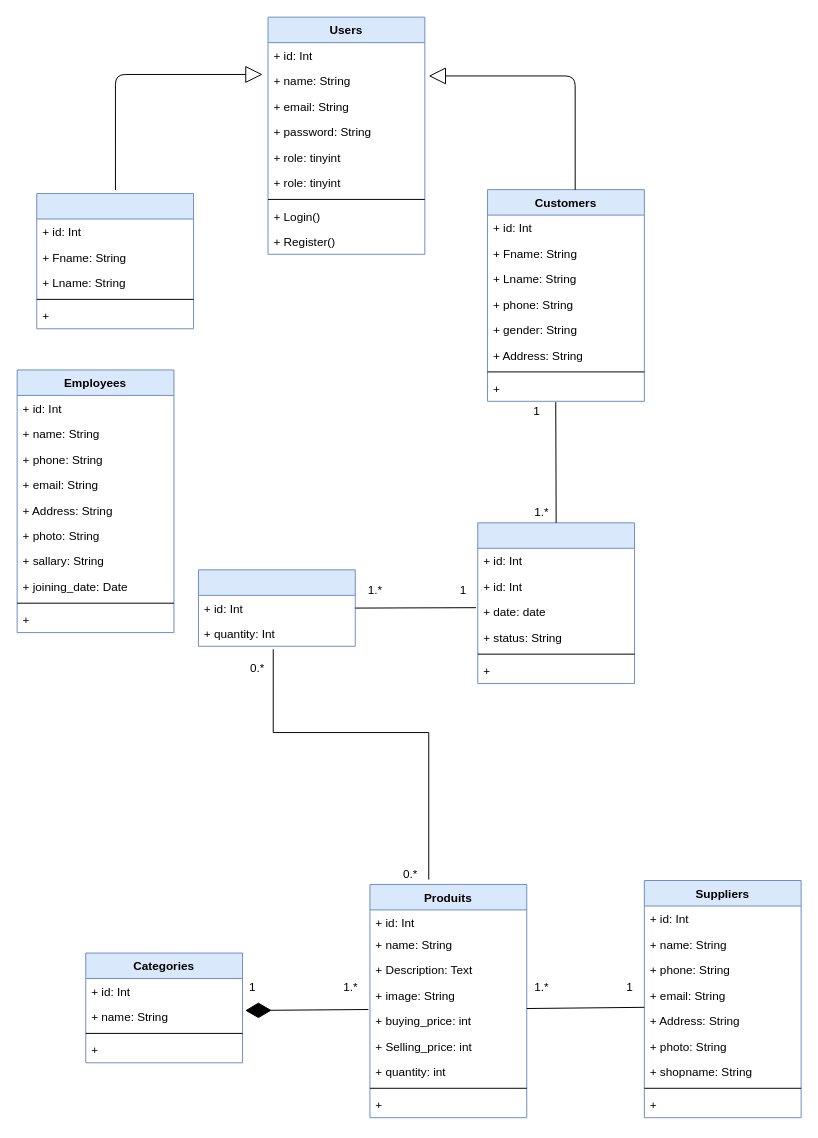
Some shapes in this 818 by 1138 pixel diagram are drawn without their labels. Here are the shapes that lost their labels. From the top down, the box of each, then its label:
(36, 193, 194, 329): Admin
(197, 569, 355, 646): Panier
(477, 522, 635, 684): Commande
